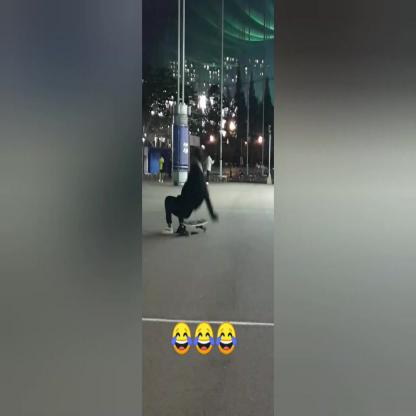Fall_Down: (161, 152, 222, 239)
